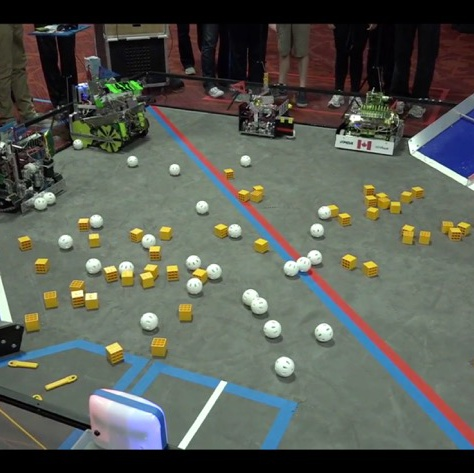robot: (67, 55, 152, 155), (2, 109, 65, 216), (330, 89, 408, 155), (230, 79, 302, 143)
